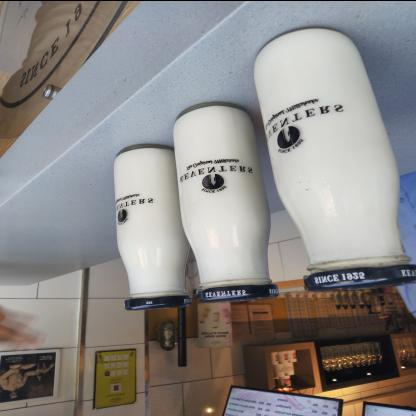bottle: (1, 105, 254, 228), (1, 205, 268, 289), (53, 271, 279, 333)
